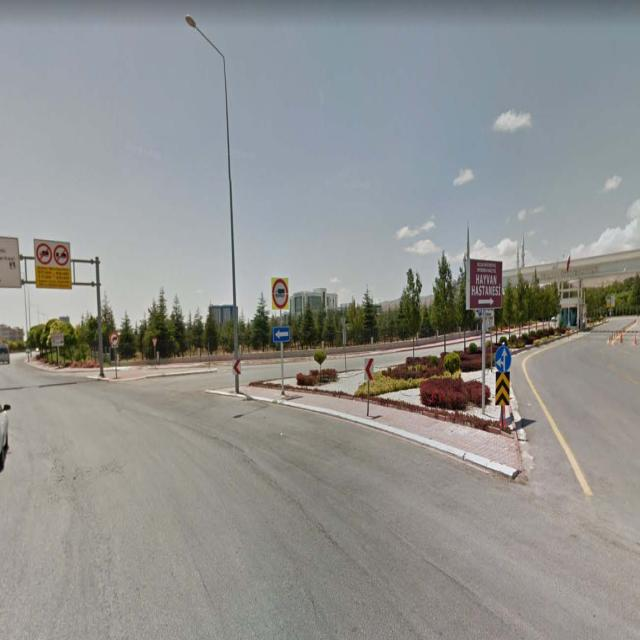ilerisol: (495, 346, 511, 372)
